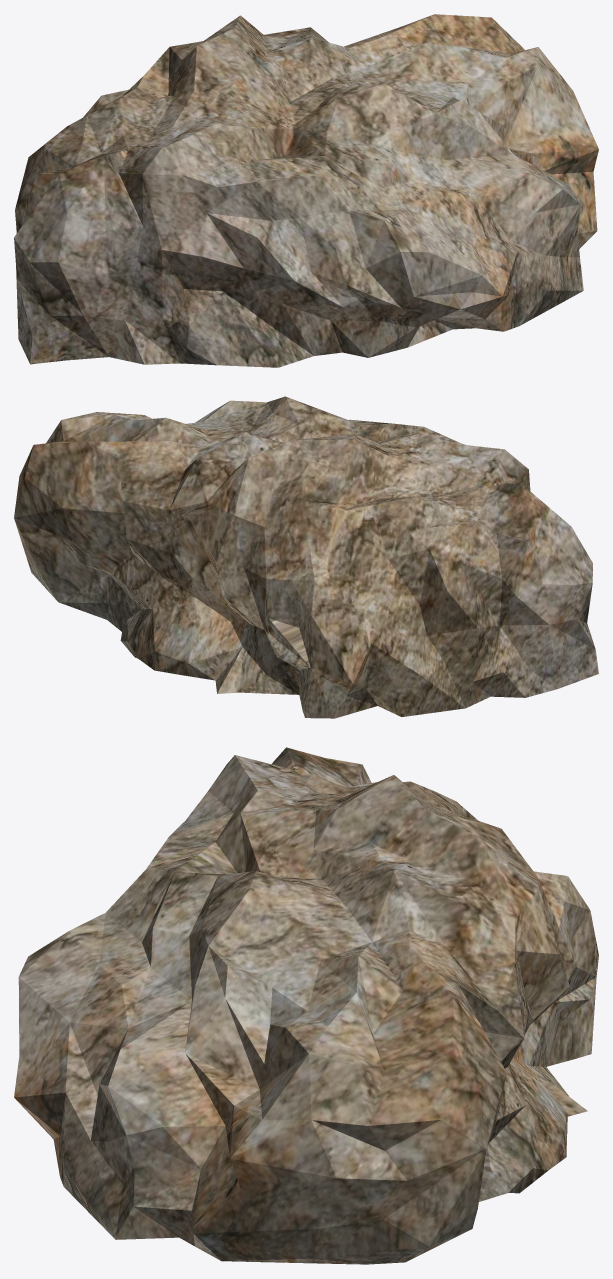
Rendered from WallRock.obj.
The picture shows the model from 3 angles, top to bottom: view 1: azimuth 30°, elevation 25°; view 2: azimuth 150°, elevation 25°; view 3: azimuth 270°, elevation 25°; orthographic projection. The views are drawn at different scales.
Visible parts, largest first — view 1: uploads_files_2774098_1LOW.002; view 2: uploads_files_2774098_1LOW.002; view 3: uploads_files_2774098_1LOW.002.
Boxes of the visible parts, x1,y1,x2,y2 form: uploads_files_2774098_1LOW.002: [14, 14, 598, 367]; uploads_files_2774098_1LOW.002: [14, 396, 598, 718]; uploads_files_2774098_1LOW.002: [14, 747, 598, 1264].
Bounding box in the file's own units: 71.25 × 28.74 × 50.
1 material, 1 textured.
